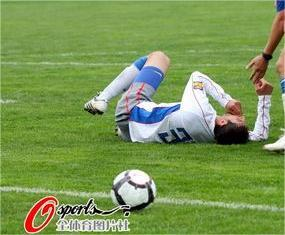down: (79, 52, 273, 147)
